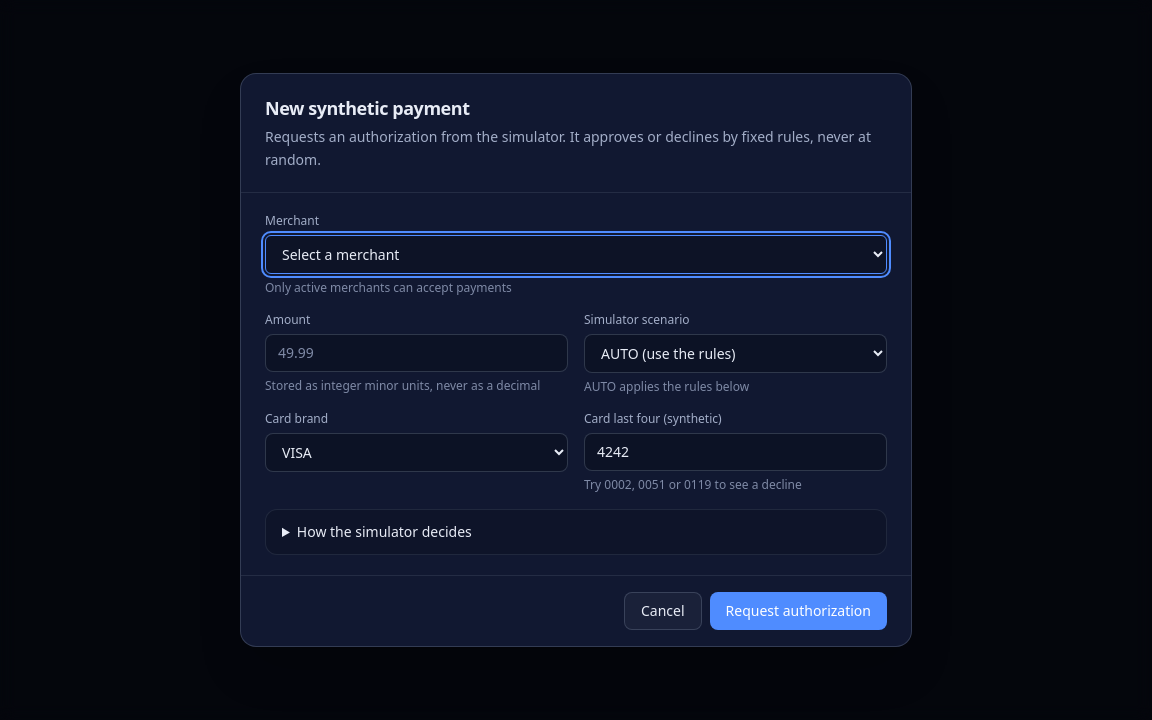
Test: New payment › validates before sending anything
This screenshot has width=1152, height=720.
Click the button "Request authorization". click: (798, 611)
box: [710,592,887,630]
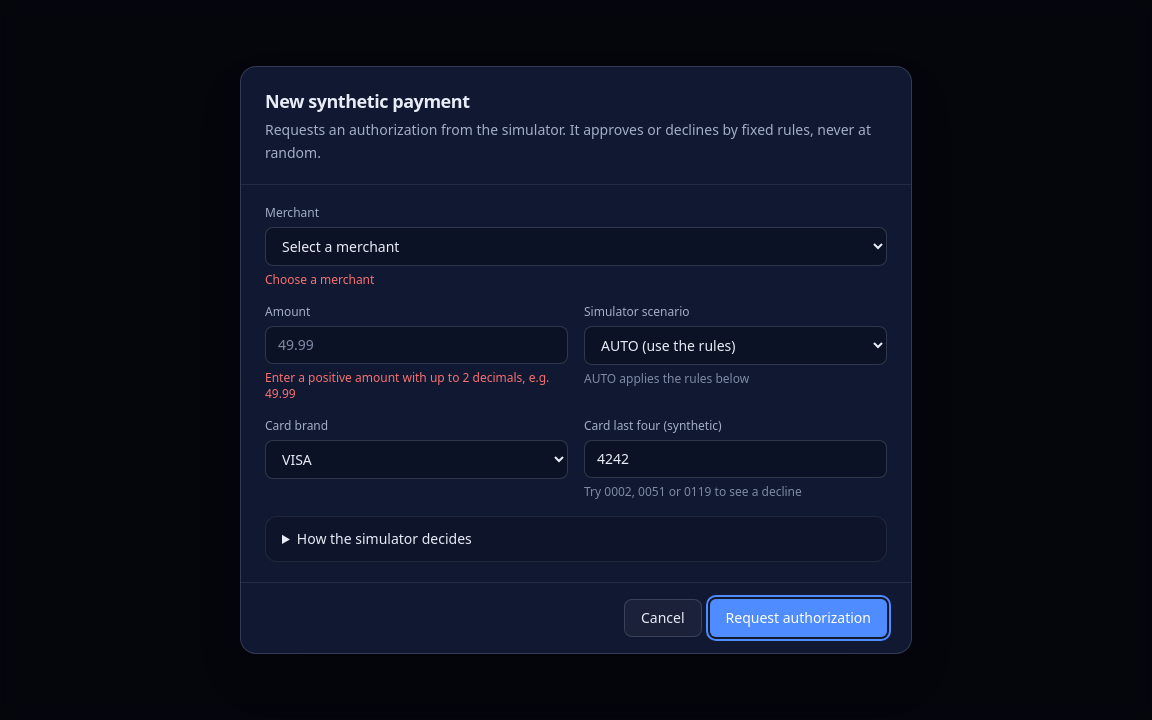
Expected: the text "Choose a merchant" is shown, [265,271,374,288]
Expected: the text "Enter a positive amount with up to 2 decimals, e.g. 49.99" is shown, [265,370,568,402]
